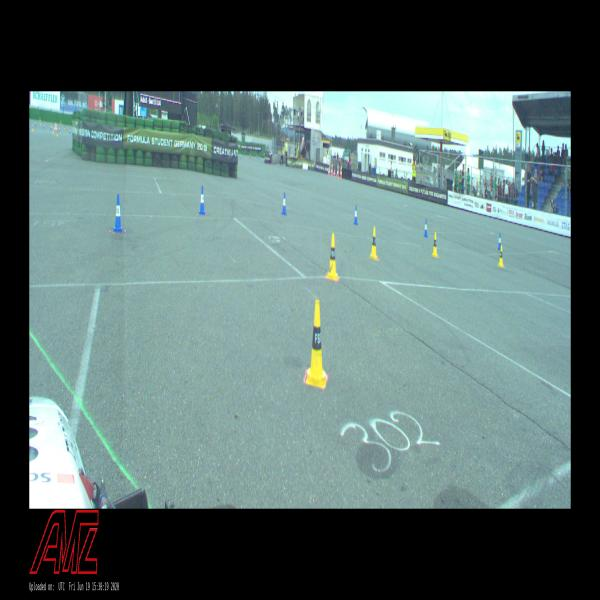blue_cone: (113, 194, 123, 232), (199, 186, 206, 214), (281, 193, 287, 216), (353, 205, 358, 225), (423, 219, 428, 238), (497, 233, 501, 250)
large_orange_cone: (340, 165, 342, 179), (337, 164, 339, 177), (331, 163, 333, 175), (328, 166, 330, 175), (334, 168, 335, 176)
yellow_cone: (306, 300, 327, 387), (326, 233, 338, 280), (370, 227, 378, 260), (432, 232, 438, 257), (498, 246, 504, 268)
